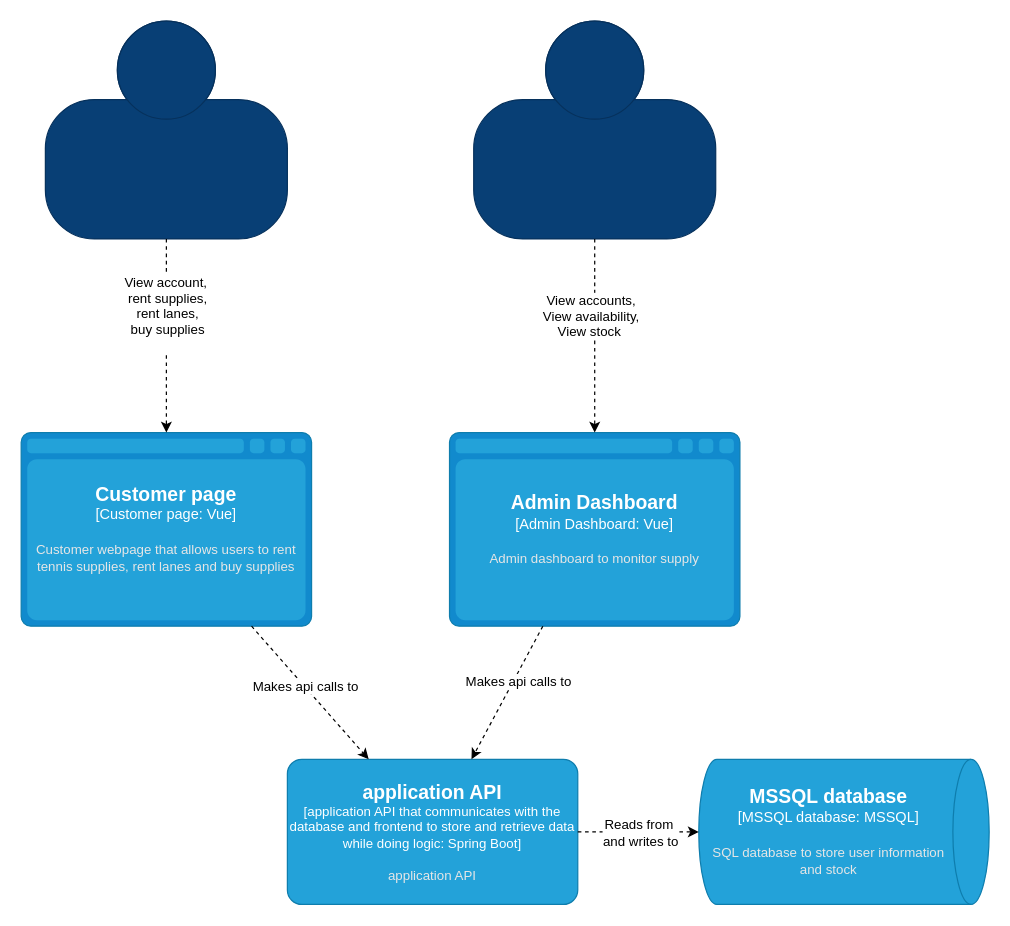
This 1010x926 diagram has some shape labels left out. Here are the shapes that lost their labels. From the top down, the centre of each, then its label:
point 165,129: Customer [Person] An User of the app who uses this app to rent and buy supplies
point 594,129: Admin [Person] An Admin of the app that monitors the supply
